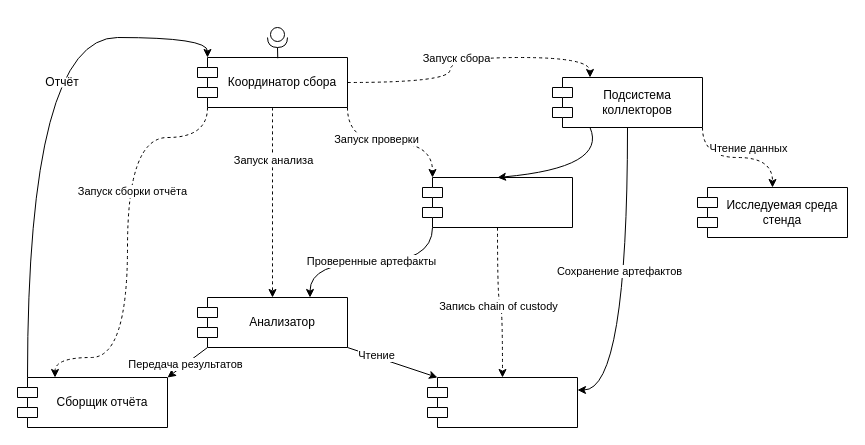
Image size: 865x445. Some labels were removed from this diagram. Here are the shapes that lost their labels. From the top down, the centre of each, then its label:
At [497,202]: "Модуль целостности".
At [502,402]: "Хранилище артефактов".
